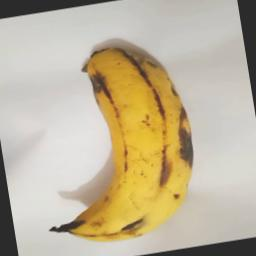Banana Unripe: (27, 39, 208, 249)
